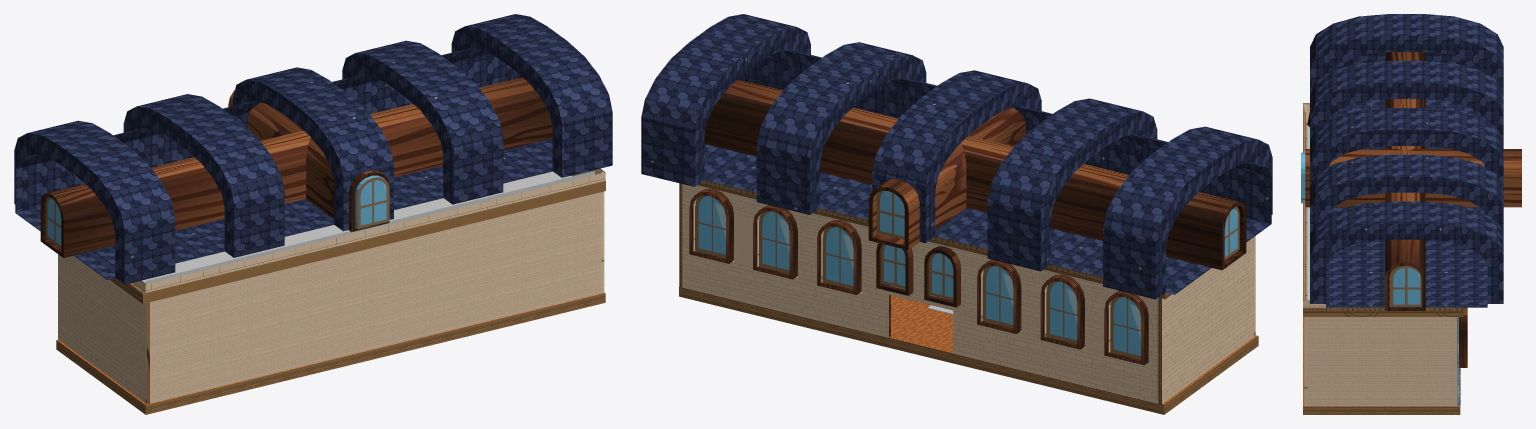
Rendered from sala3.obj.
3 renders of one model, left to right at view 1: azimuth 30°, elevation 25°; view 2: azimuth 150°, elevation 25°; view 3: azimuth 270°, elevation 25°, orthographic. The views are drawn at different scales.
Parts seen in each view (by area): view 1: marcovent2.002; view 2: marcovent2.002; view 3: marcovent2.002.
Boxes of the visible parts, <box> form: marcovent2.002: <box>14,14,612,414</box>; marcovent2.002: <box>641,14,1272,414</box>; marcovent2.002: <box>1301,14,1521,414</box>.
Size of the model in its own units: 34.48 by 14.11 by 14.38.
